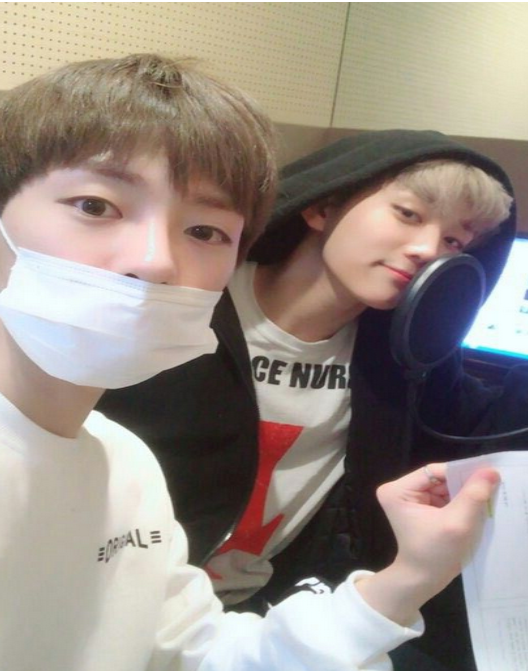mask_weared_incorrect: (1, 57, 269, 391)
